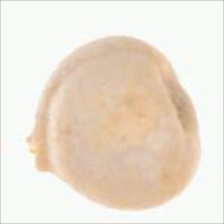L3: (24, 129, 48, 172)
L4: (26, 36, 200, 209)
